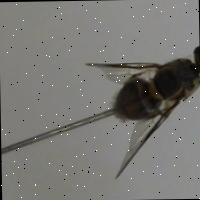Oriental-fruit-fly: (78, 35, 200, 176)
